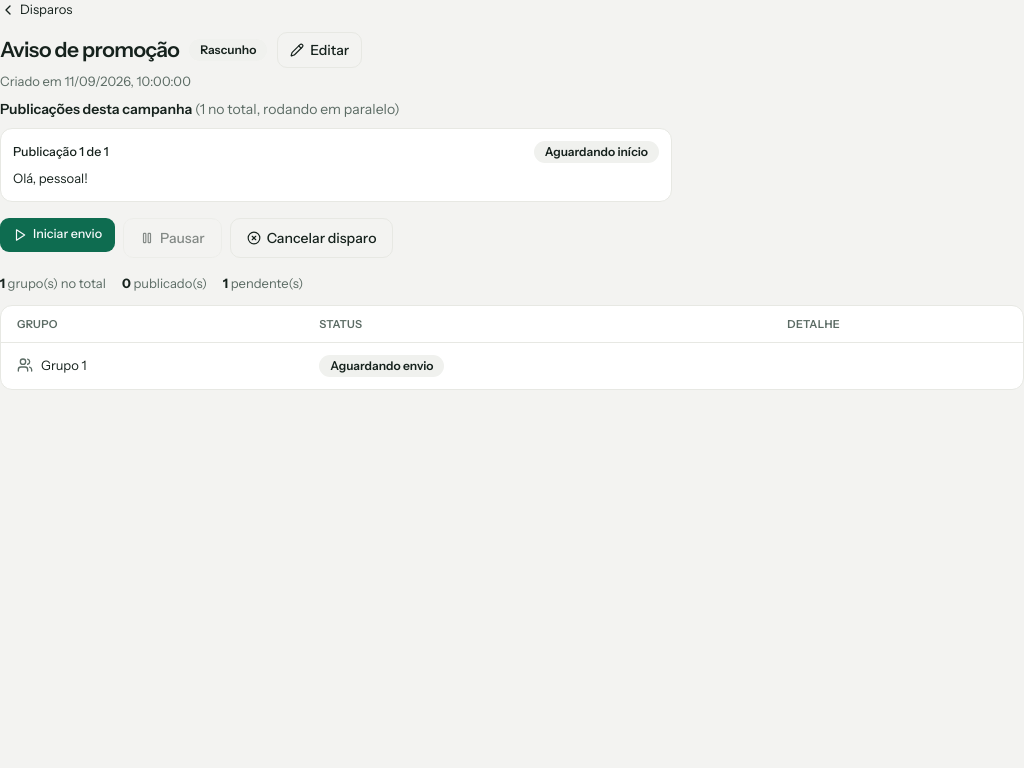
GroupBroadcastDetailPanel — editar e retomar-com-escolha (Task 9, 2026-09-15) › "Editar" abre o formulário de edição num draft/paused
Expected: the heading "Aviso de promoção" is shown, x1=0 y1=34 x2=179 y2=66
Click the button "Editar".
click(320, 50)  # box x1=277 y1=32 x2=362 y2=68
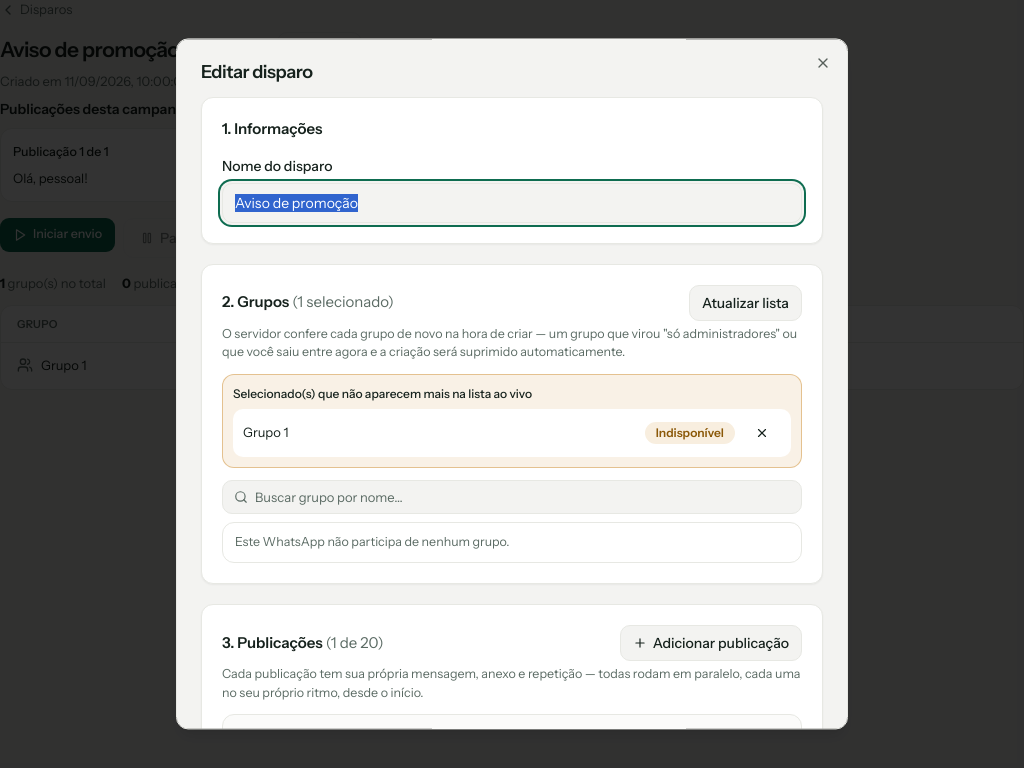
Result: the heading "Editar disparo" is shown at x1=201 y1=61 x2=313 y2=83
